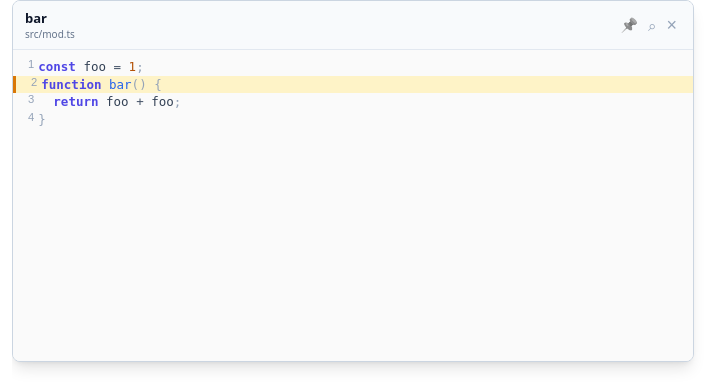
Scenario: preview frame copy menu › replaces the native menu on the body and keeps Copy
Right-click the element with class "symbol-widget__body" at (353, 206), box [13,50,693,361]
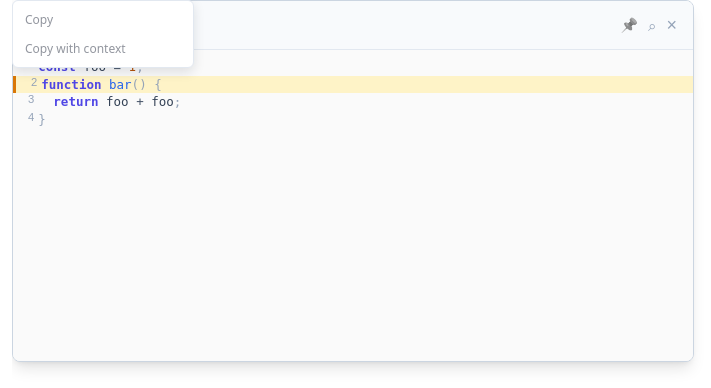
expect the menu item "Copy" is shown: met, box [13,5,193,34]
expect the menu item "Copy with context" is shown: met, box [13,34,193,63]
